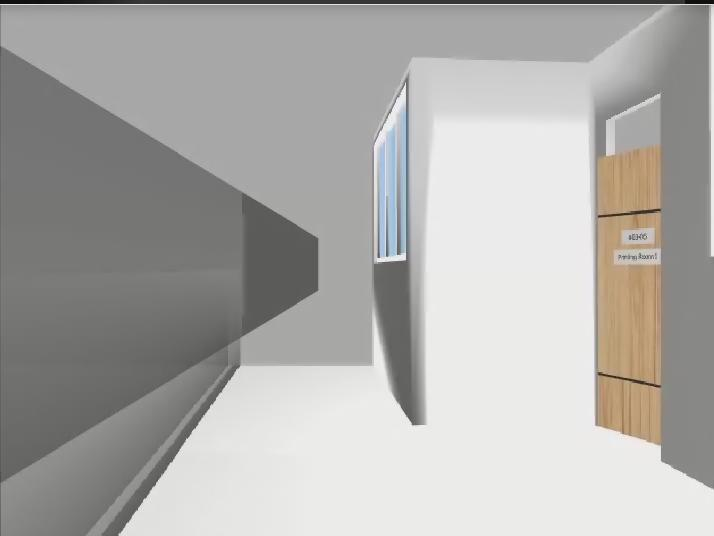door: (597, 146, 661, 443)
